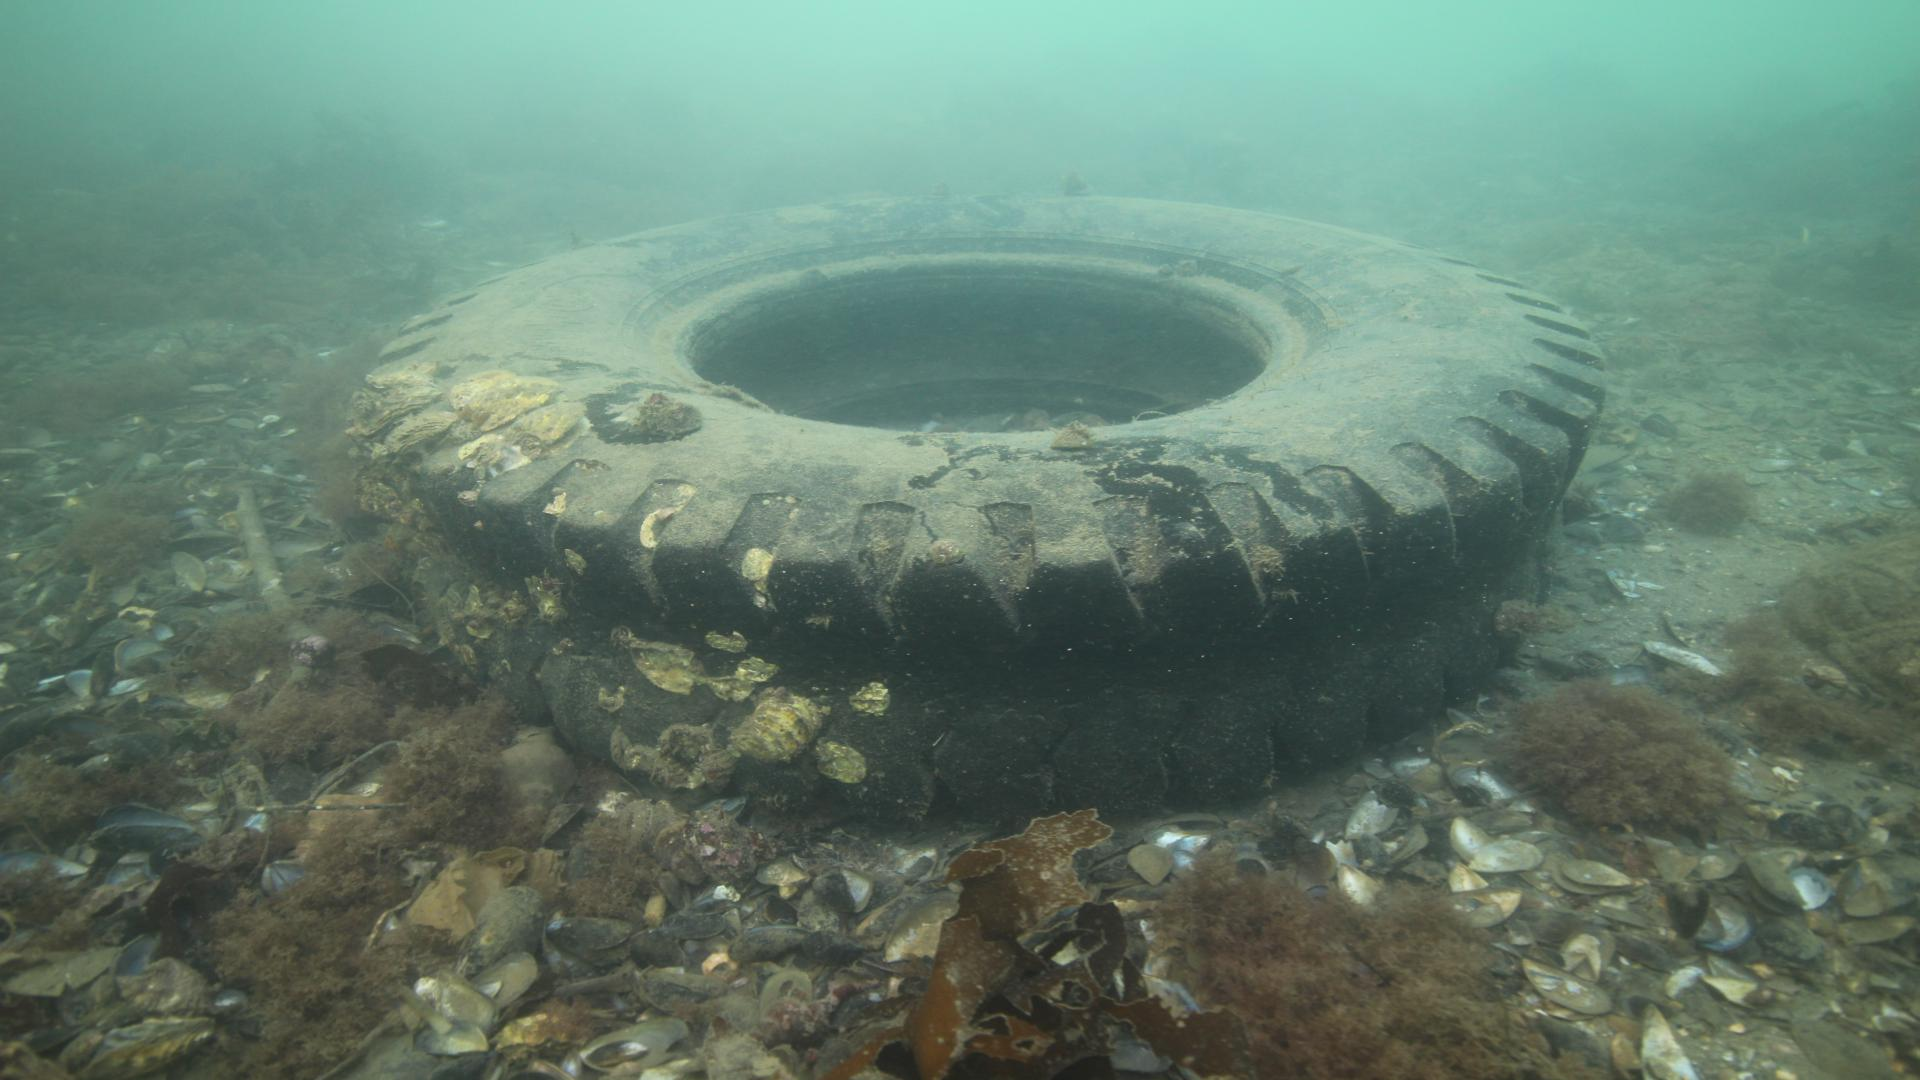tire: (359, 193, 1607, 829)
